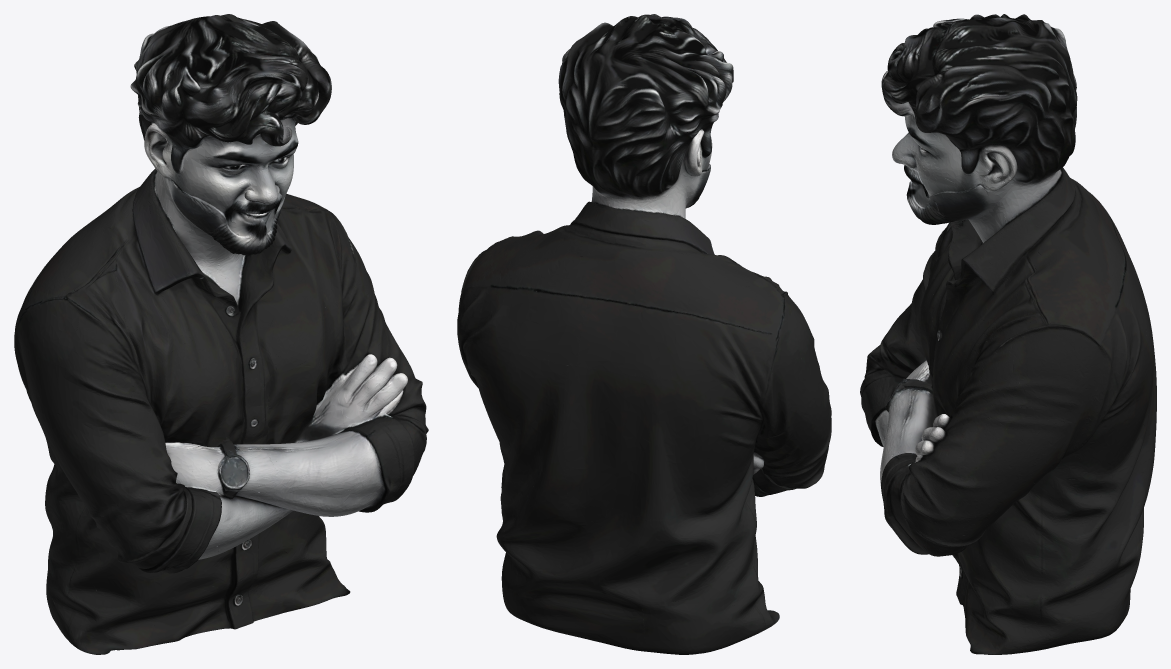
Rendered from hisan-ali.glb.
3 renders of one model, left to right at view 1: azimuth 30°, elevation 25°; view 2: azimuth 150°, elevation 25°; view 3: azimuth 270°, elevation 25°, orthographic. The views are drawn at different scales.
Visible parts, largest first — view 1: tmpihxm6vaj.obj; view 2: tmpihxm6vaj.obj; view 3: tmpihxm6vaj.obj.
Part boxes in pixels (x1,y1,x2,y2): tmpihxm6vaj.obj: (14, 14, 428, 654); tmpihxm6vaj.obj: (457, 14, 831, 654); tmpihxm6vaj.obj: (860, 14, 1156, 654).
Bounding box in the file's own units: 1.1 × 1.74 × 0.8117.
1 material, 1 textured.
